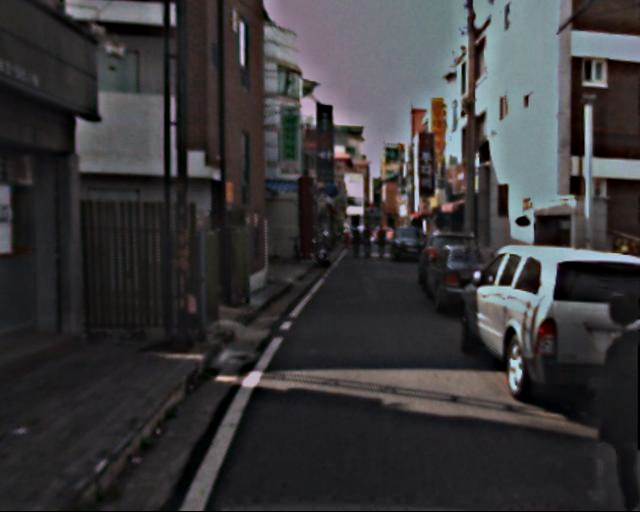person: (573, 291, 640, 509), (373, 221, 390, 262), (361, 222, 377, 260), (348, 225, 362, 260)
